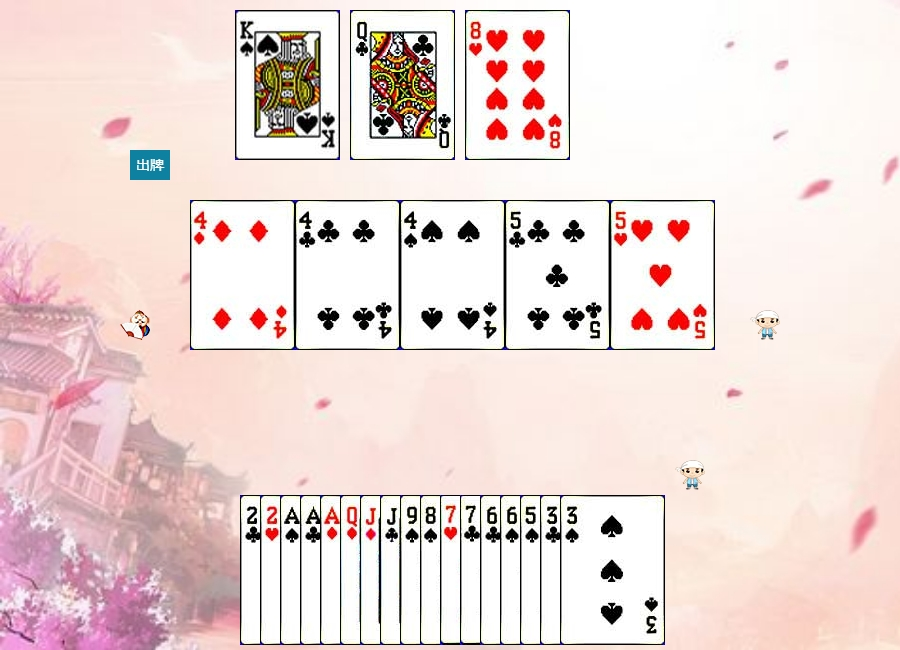11~1: (360, 495, 465, 645)
11~2: (380, 495, 485, 645)
12~1: (340, 495, 445, 645)
12~2: (350, 10, 455, 160)
13~4: (235, 10, 340, 160)
14~1: (320, 495, 425, 645)
14~2: (300, 495, 405, 645)
14~4: (280, 495, 385, 645)
15~2: (240, 495, 345, 645)
15~3: (260, 495, 365, 645)
3~2: (540, 495, 645, 645)
3~4: (560, 495, 665, 645)
4~1: (190, 200, 295, 350)
4~2: (295, 200, 400, 350)
4~4: (400, 200, 505, 350)
5~2: (505, 200, 610, 350)
5~3: (610, 200, 715, 350)
5~4: (520, 495, 625, 645)
6~2: (480, 495, 585, 645)
6~4: (500, 495, 605, 645)
7~2: (460, 495, 565, 645)
7~3: (440, 495, 545, 645)
8~3: (465, 10, 570, 160)
8~4: (420, 495, 525, 645)
9~4: (400, 495, 505, 645)
